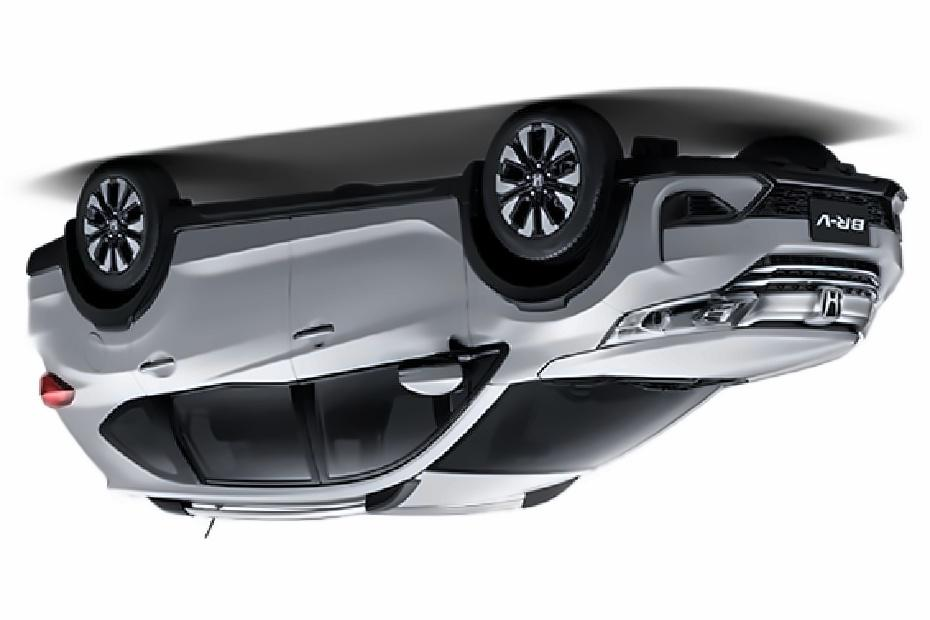Car hood: (535, 318, 862, 390)
Fender - -F-L-: (463, 186, 627, 389)
Fender - -R-L-: (60, 265, 153, 394)
Front bumper: (578, 150, 912, 314)
Headlight - -L-: (593, 283, 762, 356)
Passenger-s door - -F-L-: (291, 190, 464, 495)
Passenger-s door - -R-L-: (129, 210, 303, 492)
Rear bumper: (16, 226, 92, 367)
Rear light - -L-: (33, 365, 82, 420)
Side bumper - -L-: (159, 151, 493, 240)
Side mirror - -L-: (386, 348, 468, 406)
